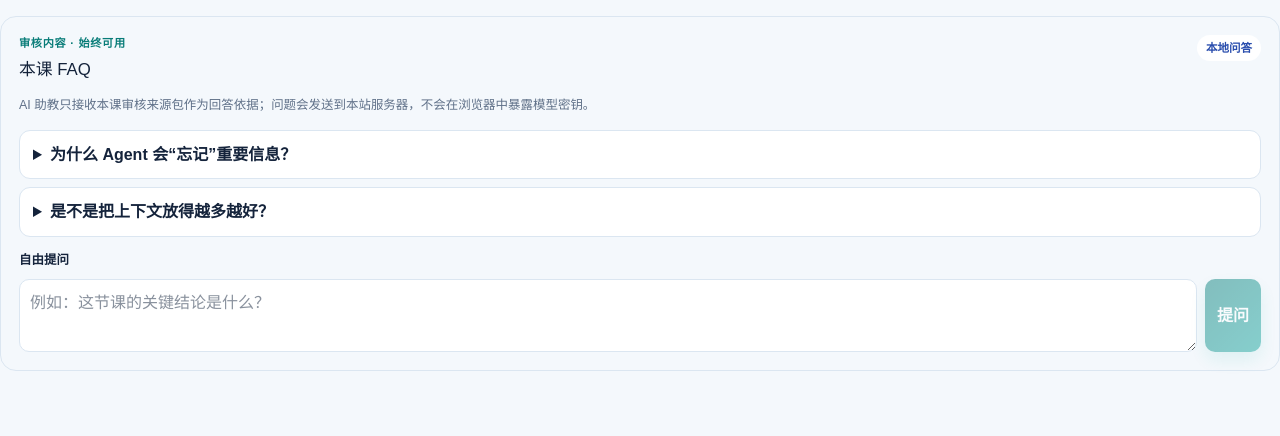
Test case: FaqPanel › turns an empty server response into a readable retry message
Type "最好的 Agent 有什么特点？" into the text box labelled "自由提问" at (608, 316), box [19, 279, 1197, 352]
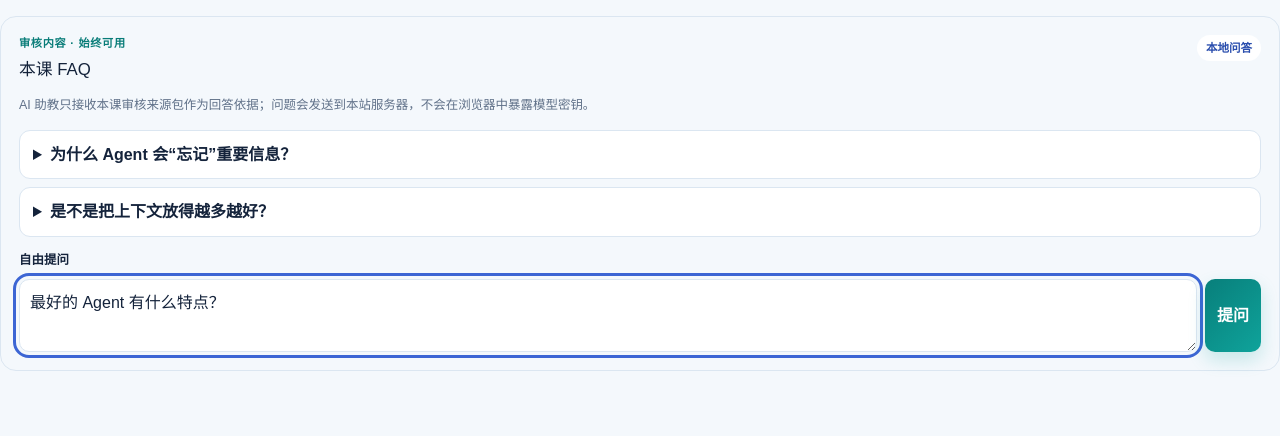
Click the button "提问" at (1233, 316), box [1205, 279, 1261, 352]
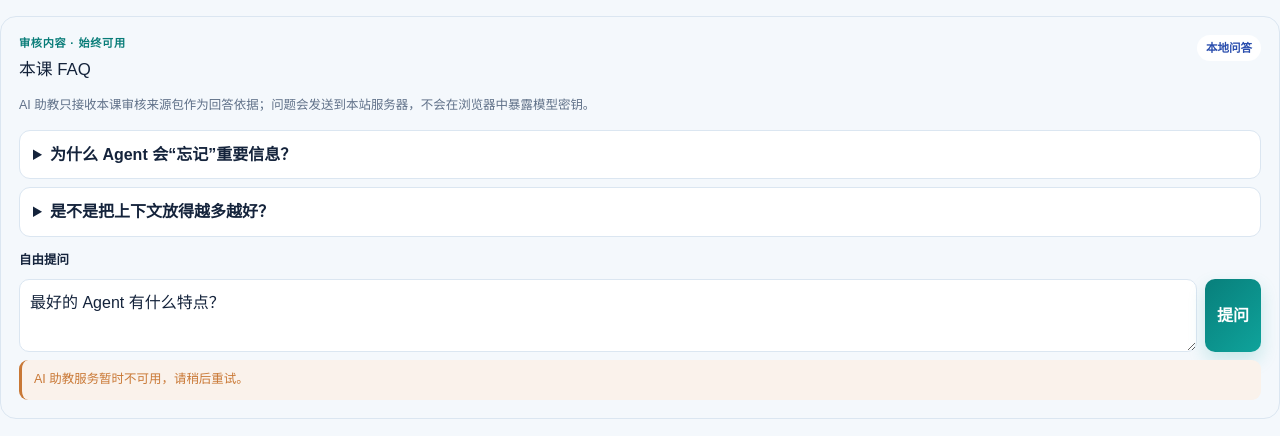
Expected: the message reads "AI 助教服务暂时不可用，请稍后重试。", [34, 372, 249, 386]
